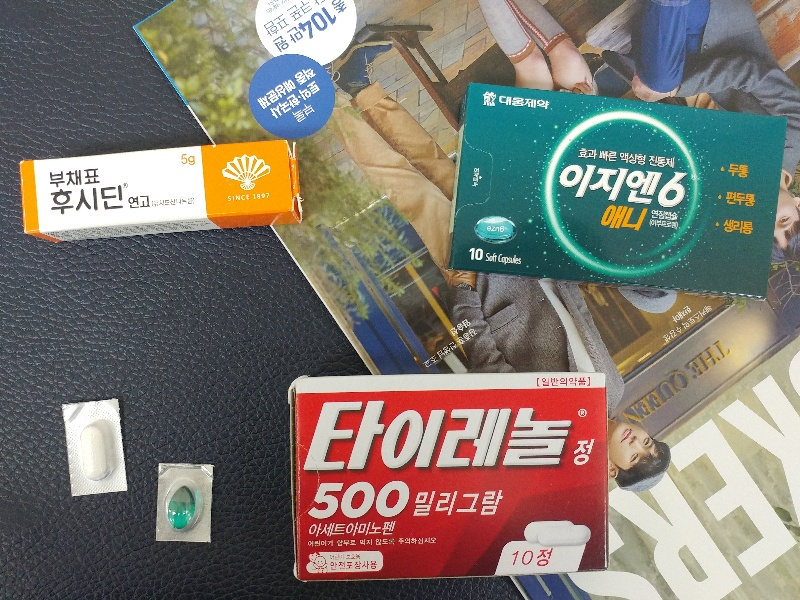ezn: (448, 84, 787, 300)
fucidin: (21, 141, 302, 240)
pill_ezn: (154, 462, 212, 542)
pill_tylenol: (63, 399, 128, 498)
tylenol: (291, 372, 609, 580)
